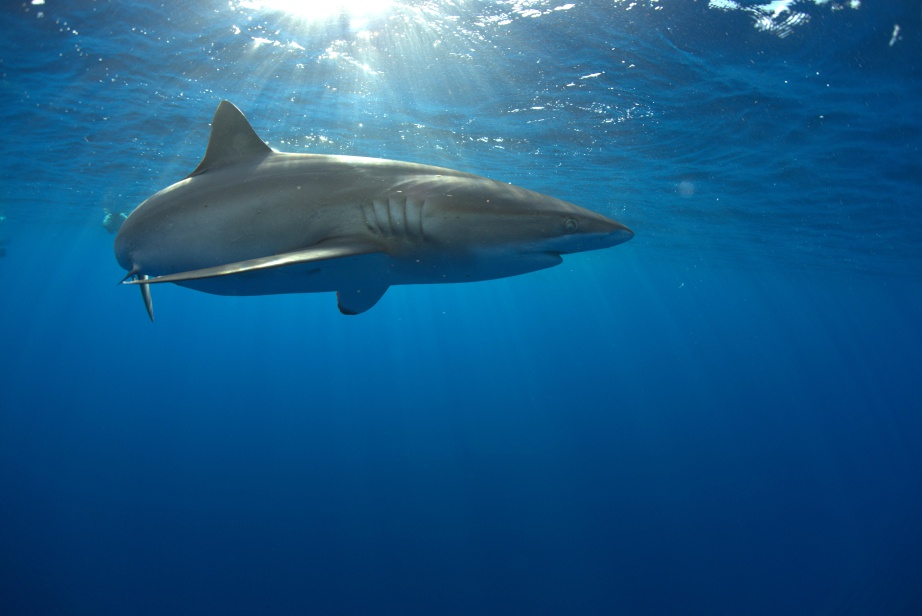Sedoso: (72, 101, 639, 330)
